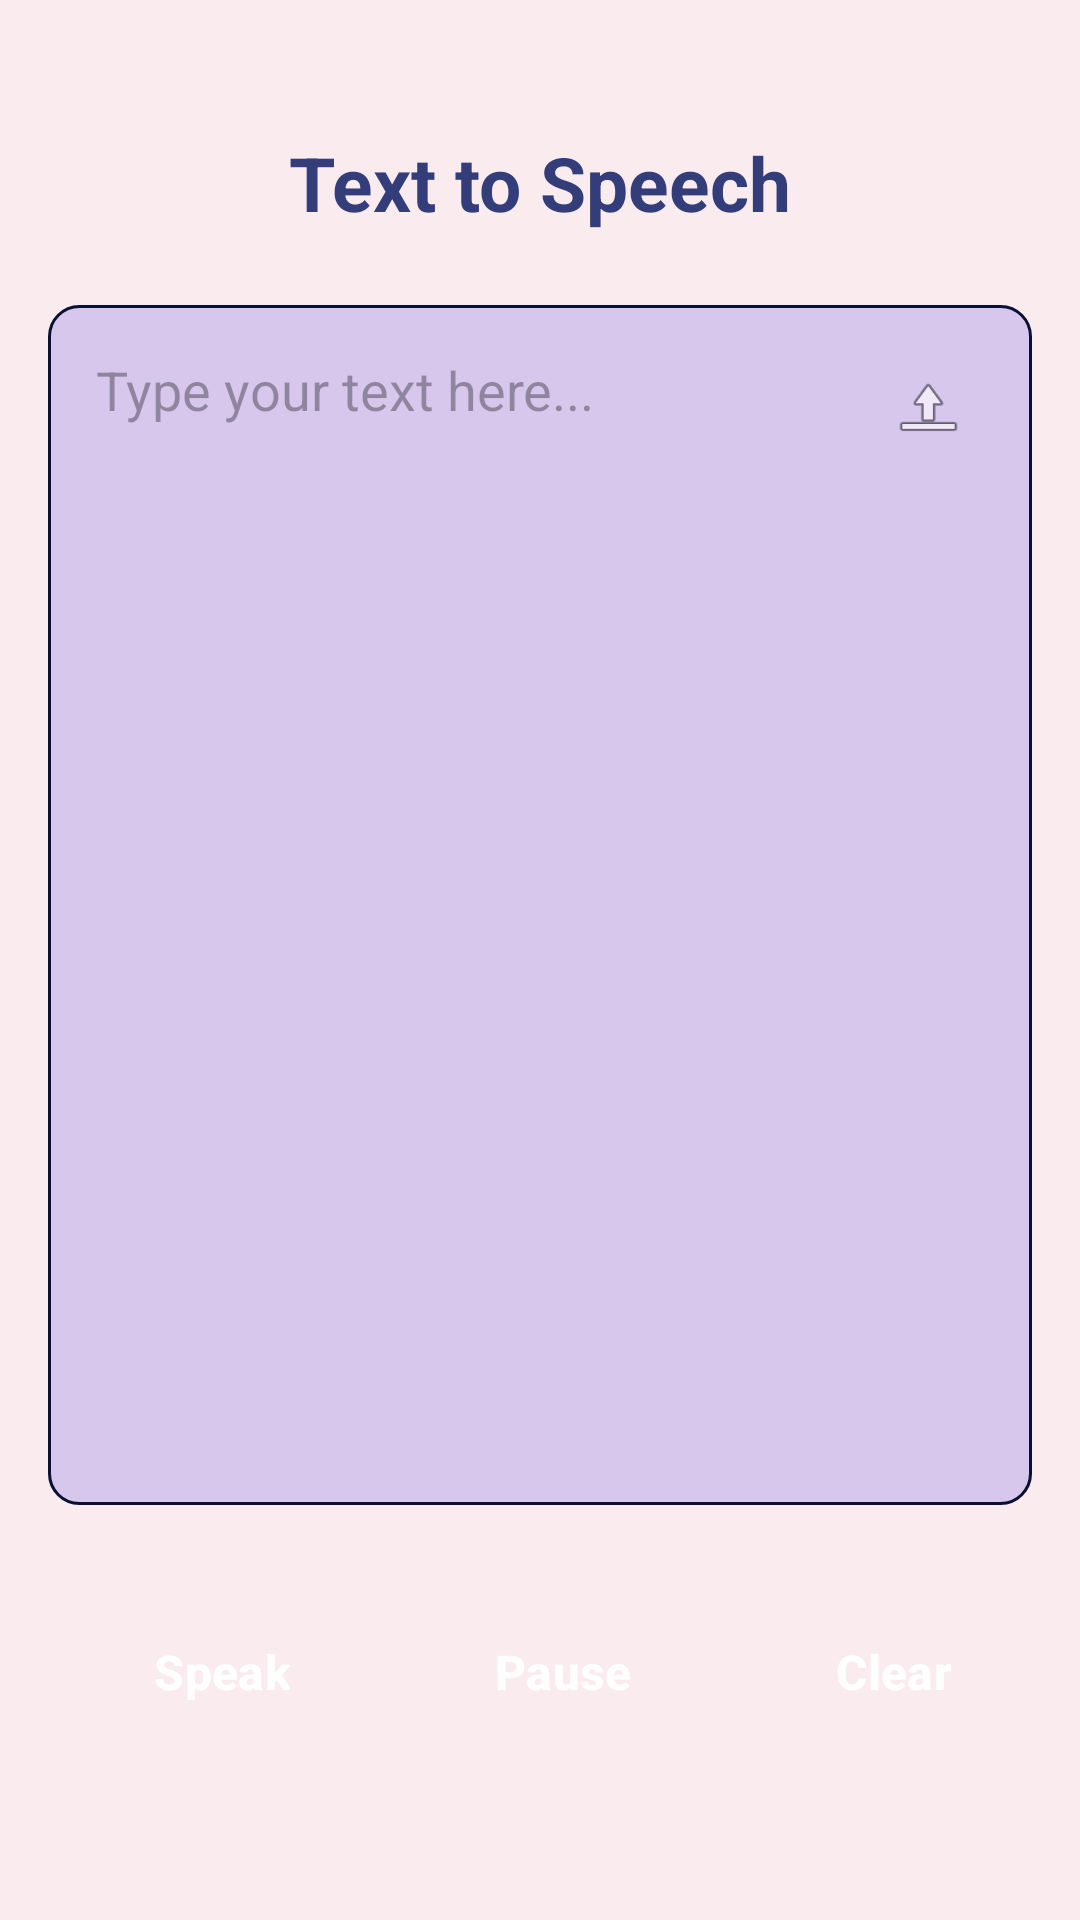

Point at icon controls on the screen. Image size 1080 × 1920, points as (x,y).
Upload File: (928,407)
